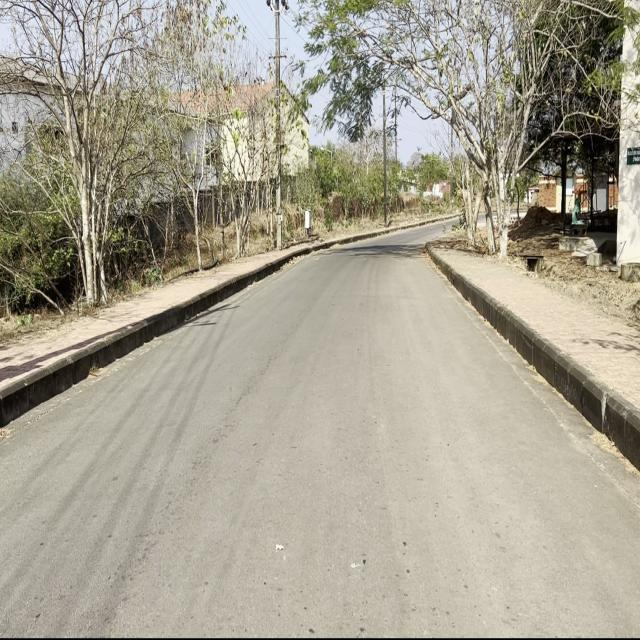Road: (4, 234, 636, 632)
